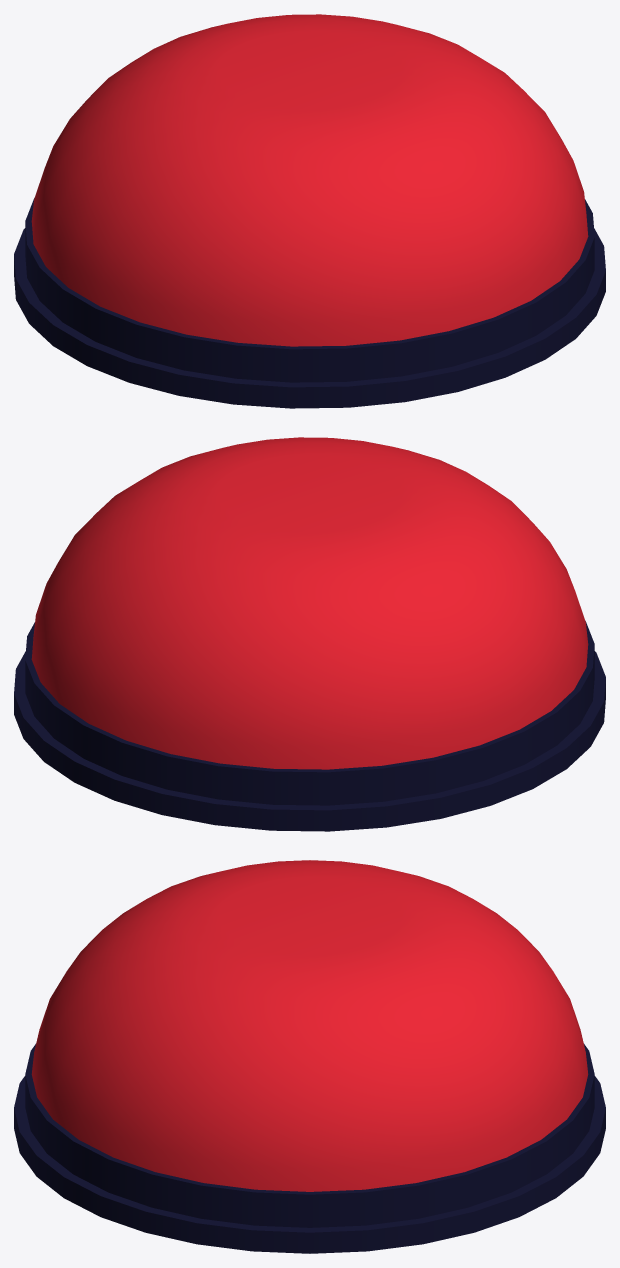
File: Button.fbx
The picture shows the model from 3 angles, top to bottom: view 1: azimuth 30°, elevation 25°; view 2: azimuth 150°, elevation 25°; view 3: azimuth 270°, elevation 25°; orthographic projection.
Parts seen in each view (by area): view 1: Cylinder.019, Cylinder.015; view 2: Cylinder.019, Cylinder.015; view 3: Cylinder.019, Cylinder.015.
Boxes of the visible parts, <box> form: Cylinder.019: <box>31,14,588,346</box>; Cylinder.015: <box>14,198,605,408</box>; Cylinder.019: <box>31,437,588,769</box>; Cylinder.015: <box>14,621,605,831</box>; Cylinder.019: <box>31,860,588,1191</box>; Cylinder.015: <box>14,1044,605,1253</box>.
Size of the model in its own units: 585 by 231 by 585.
